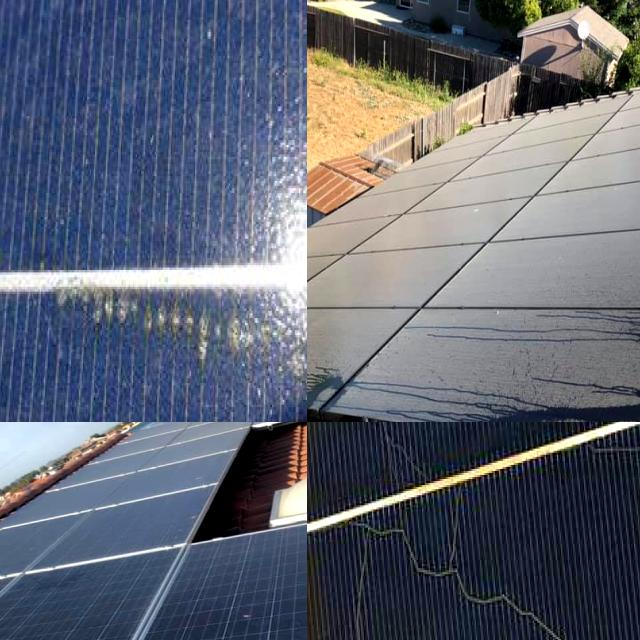crack: (0, 562, 292, 640), (137, 527, 307, 640), (43, 470, 230, 566)
dust: (460, 246, 640, 372), (466, 127, 640, 225), (465, 365, 640, 422), (307, 236, 446, 306), (307, 308, 412, 389), (393, 174, 448, 228)
shadow: (61, 226, 307, 422), (307, 422, 364, 640), (0, 180, 54, 276), (0, 41, 26, 224), (362, 422, 562, 442)
